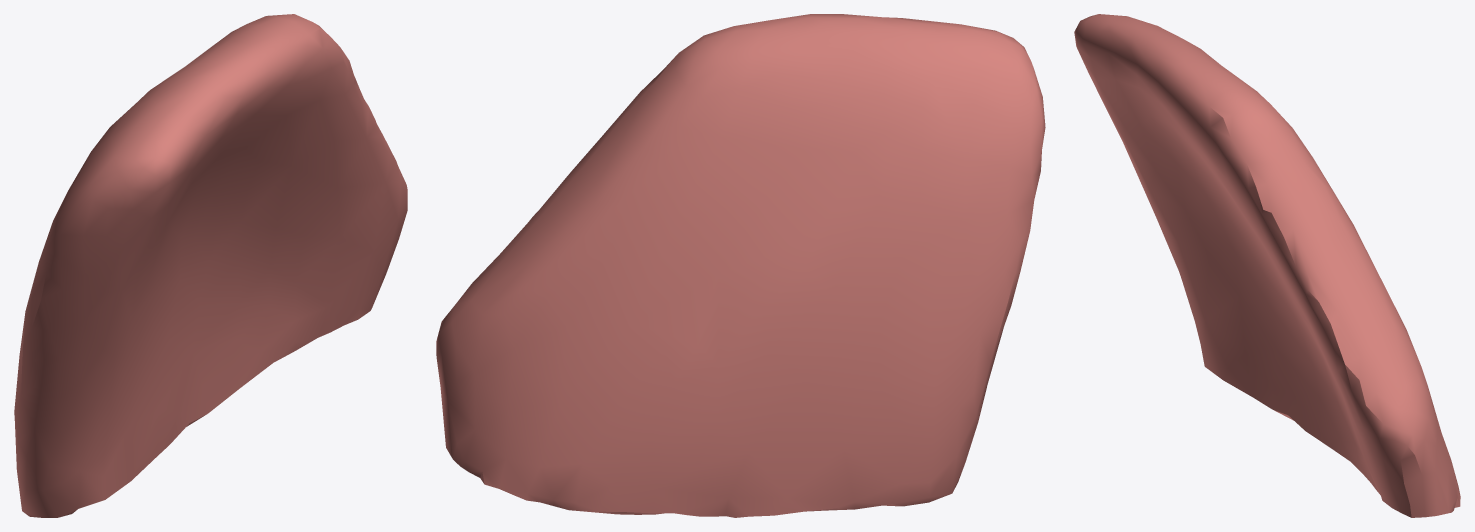
File: fma54144-f_mm2215m.glb
The picture shows the model from 3 angles, left to right: view 1: azimuth 30°, elevation 25°; view 2: azimuth 150°, elevation 25°; view 3: azimuth 270°, elevation 25°; orthographic projection. The views are drawn at different scales.
Visible parts, largest first — view 1: FMA54144-F_MM2215M; view 2: FMA54144-F_MM2215M; view 3: FMA54144-F_MM2215M.
Part boxes in pixels (x1,y1,x2,y2): FMA54144-F_MM2215M: (14,14,407,517); FMA54144-F_MM2215M: (436,14,1045,517); FMA54144-F_MM2215M: (1074,14,1460,517).
Size of the model in its own units: 0.00645 by 0.00556 by 0.00512.
